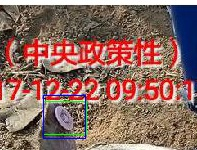text: (43, 101, 86, 134)
